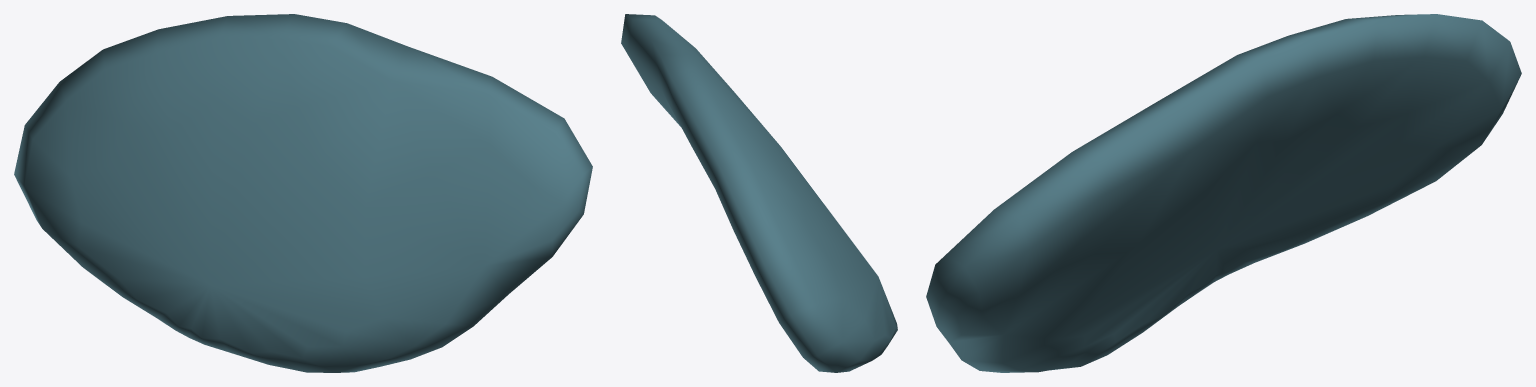
Rendered from Plantar_interossei_on_prox._phal._of_5th_finger_of_foot.r_Gener.glb.
3 renders of one model, left to right at view 1: azimuth 30°, elevation 25°; view 2: azimuth 150°, elevation 25°; view 3: azimuth 270°, elevation 25°, orthographic. The views are drawn at different scales.
Parts seen in each view (by area): view 1: Plantar_interossei_on_prox._phal._of_5th_finger_of_foot.r_Ge; view 2: Plantar_interossei_on_prox._phal._of_5th_finger_of_foot.r_Ge; view 3: Plantar_interossei_on_prox._phal._of_5th_finger_of_foot.r_Ge.
Part boxes in pixels (x1,y1,x2,y2): Plantar_interossei_on_prox._phal._of_5th_finger_of_foot.r_Ge: (14,14,592,372); Plantar_interossei_on_prox._phal._of_5th_finger_of_foot.r_Ge: (621,14,897,372); Plantar_interossei_on_prox._phal._of_5th_finger_of_foot.r_Ge: (926,14,1521,372).
Bounding box in the file's own units: 0.0035 × 0.00242 × 0.00361.
